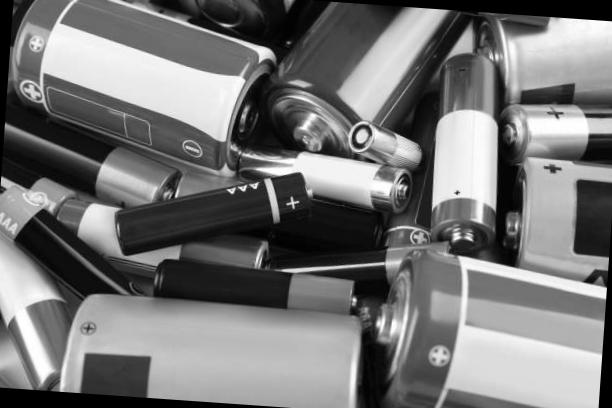battery: (4, 0, 289, 164), (366, 245, 609, 408), (97, 149, 336, 253), (411, 41, 525, 258), (137, 256, 371, 328), (337, 119, 438, 159)
